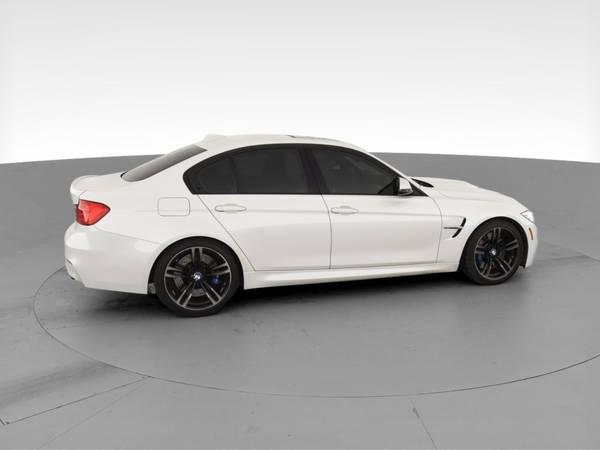Front_Bumper: (525, 223, 538, 265)
Front_Fender: (434, 199, 535, 272)
Front_Right_Door: (323, 195, 442, 280)
Front_Right_Window: (305, 146, 432, 198)
Hood: (414, 176, 527, 208)
Rear_Bumper: (63, 222, 165, 294)
Rear_Fender: (79, 183, 212, 243)
Rear_Right_Door: (194, 196, 331, 289)
Rear_Right_Window: (184, 144, 321, 197)
Rear_Windshield: (119, 145, 208, 183)
Right_Headlight: (520, 210, 535, 224)
Right_Taillight: (75, 198, 112, 225)
Roof: (136, 133, 372, 196)
Tailgate: (68, 171, 134, 204)
Wheel: (151, 240, 239, 319), (463, 220, 526, 282)
